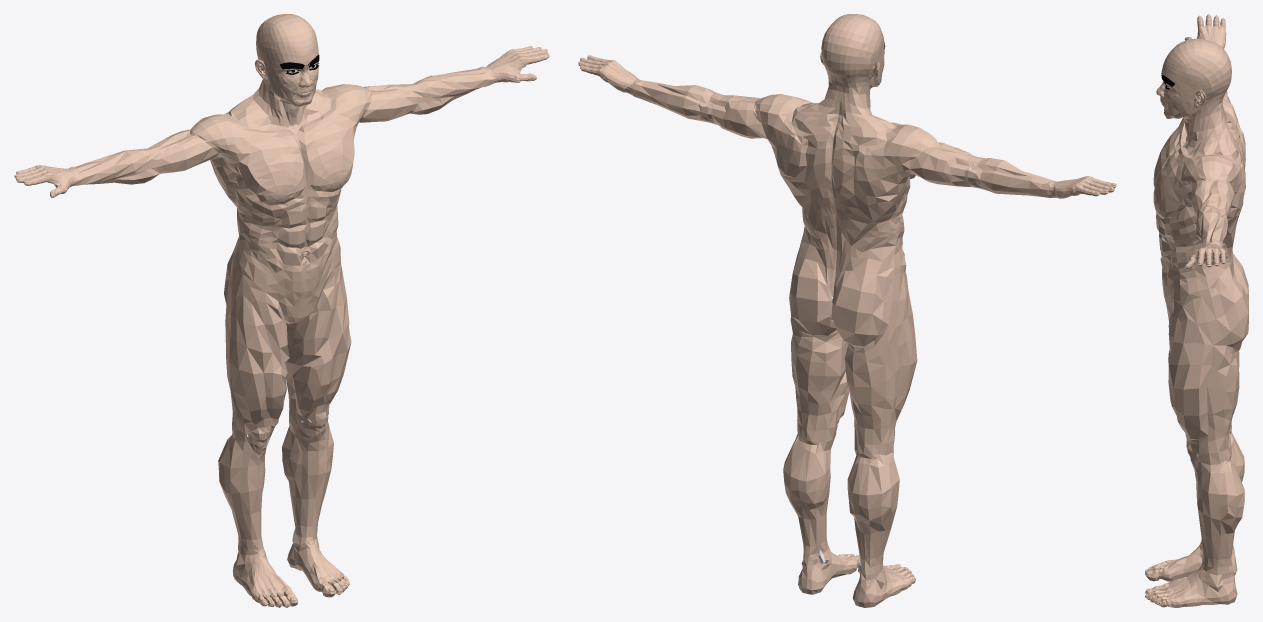
3 views of the same model, side by side, from view 1: azimuth 30°, elevation 25°; view 2: azimuth 150°, elevation 25°; view 3: azimuth 270°, elevation 25° (orthographic). The views are drawn at different scales.
Parts seen in each view (by area): view 1: mesh-Geometry; view 2: mesh-Geometry; view 3: mesh-Geometry.
Boxes of the visible parts, x1,y1,x2,y2 form: mesh-Geometry: (14, 14, 549, 607); mesh-Geometry: (578, 14, 1116, 607); mesh-Geometry: (1145, 14, 1248, 607).
Bounding box in the file's own units: 16.5 × 16.84 × 2.9.
